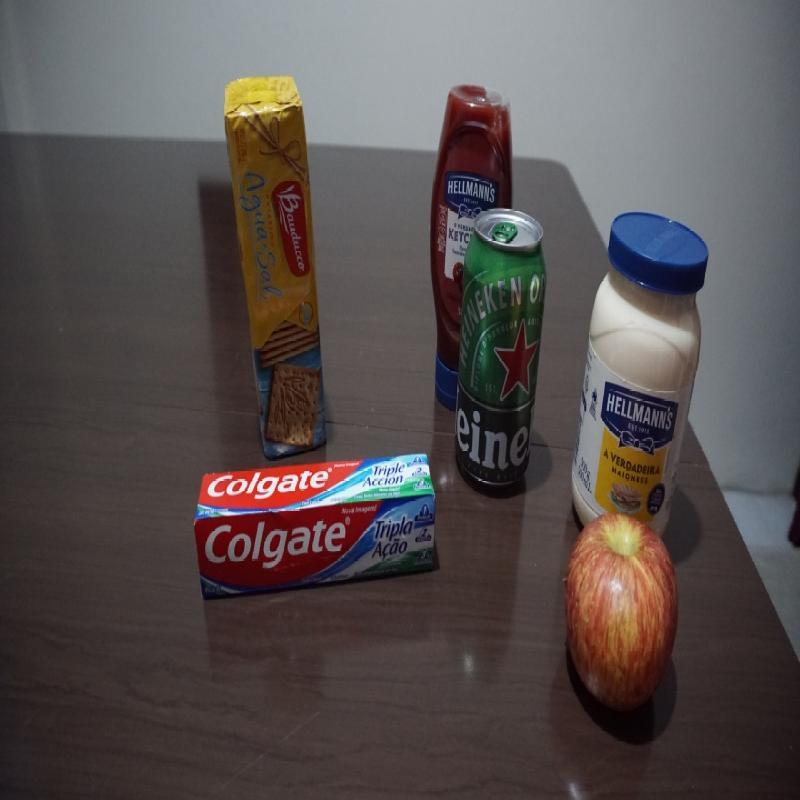Apple: (566, 511, 682, 716)
Beer can: (451, 202, 548, 494)
Cracker: (220, 71, 330, 462)
Ketchup: (425, 81, 514, 419)
Mayonnaise: (568, 209, 711, 549)
Toothpaste: (192, 445, 446, 606)
